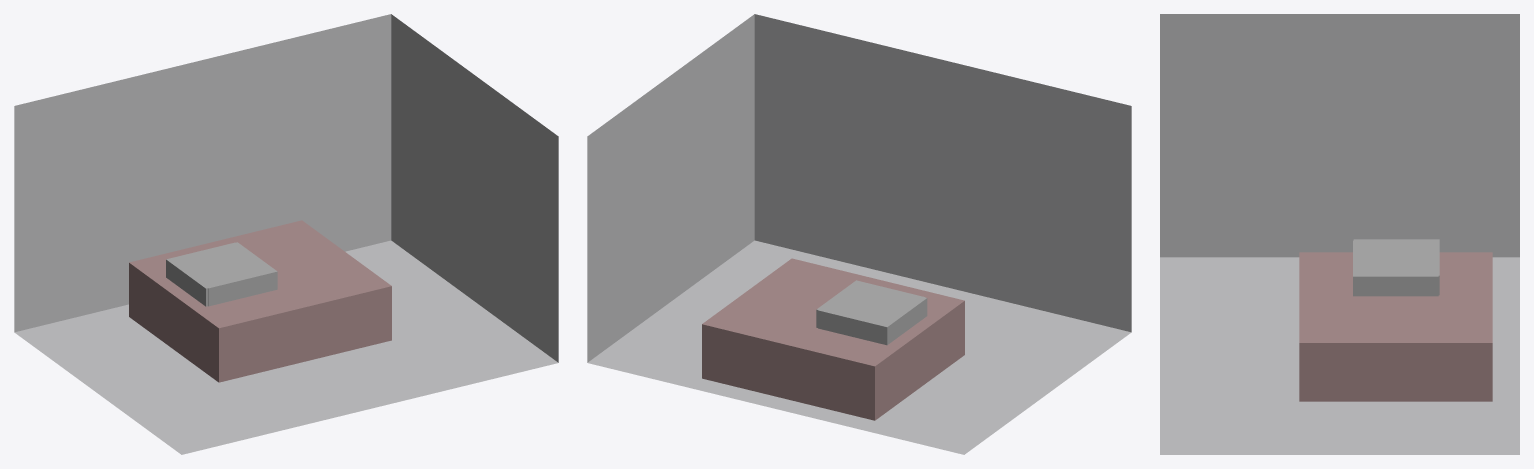
Rendered from optimised_layout.glb.
The picture shows the model from 3 angles, left to right: view 1: azimuth 30°, elevation 25°; view 2: azimuth 150°, elevation 25°; view 3: azimuth 270°, elevation 25°; orthographic projection. The views are drawn at different scales.
Parts seen in each view (by area): view 1: room, bed, sofas, dustbin; view 2: room, bed, sofas, dustbin; view 3: room, bed, sofas, dustbin.
Boxes of the visible parts, x1,y1,x2,y2 form: room: [14, 14, 558, 454]; bed: [129, 220, 391, 382]; sofas: [166, 242, 261, 306]; dustbin: [198, 242, 277, 306]; room: [587, 14, 1131, 454]; bed: [702, 258, 964, 420]; sofas: [818, 281, 927, 345]; dustbin: [816, 280, 925, 327]; room: [1160, 14, 1519, 454]; bed: [1299, 252, 1492, 401]; sofas: [1353, 239, 1439, 295]; dustbin: [1353, 240, 1438, 296].
Bounding box in the file's own units: 4.36 × 2.5 × 3.35.
